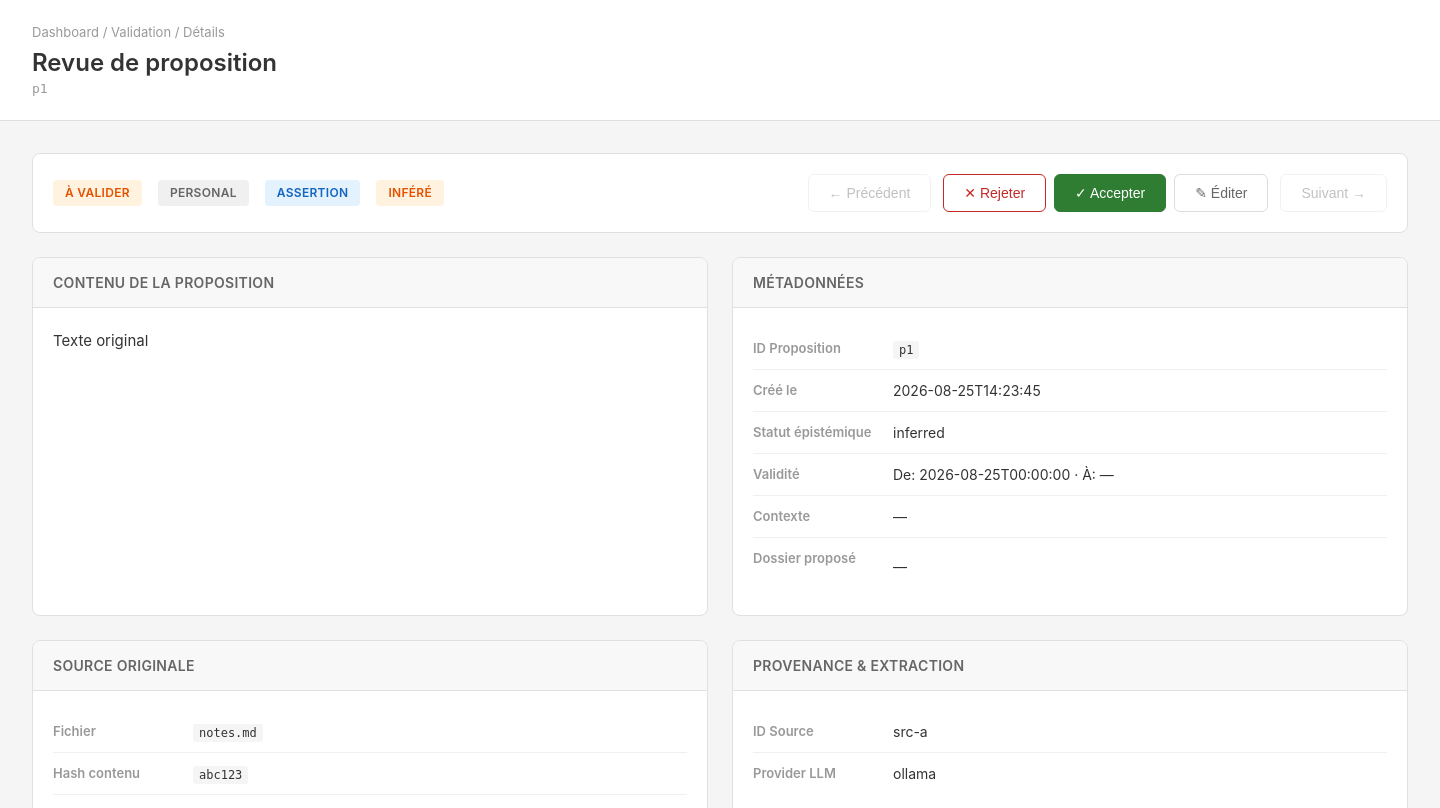
Scenario: ProposalDetail › TASK-013 AC12b: a failed save keeps edit mode open with the draft intact and shows actionError
Expected: the text "Texte original" is shown, [53,331,148,350]
Click the button "✎ Éditer" at (1221, 193), box [1174,174,1268,212]
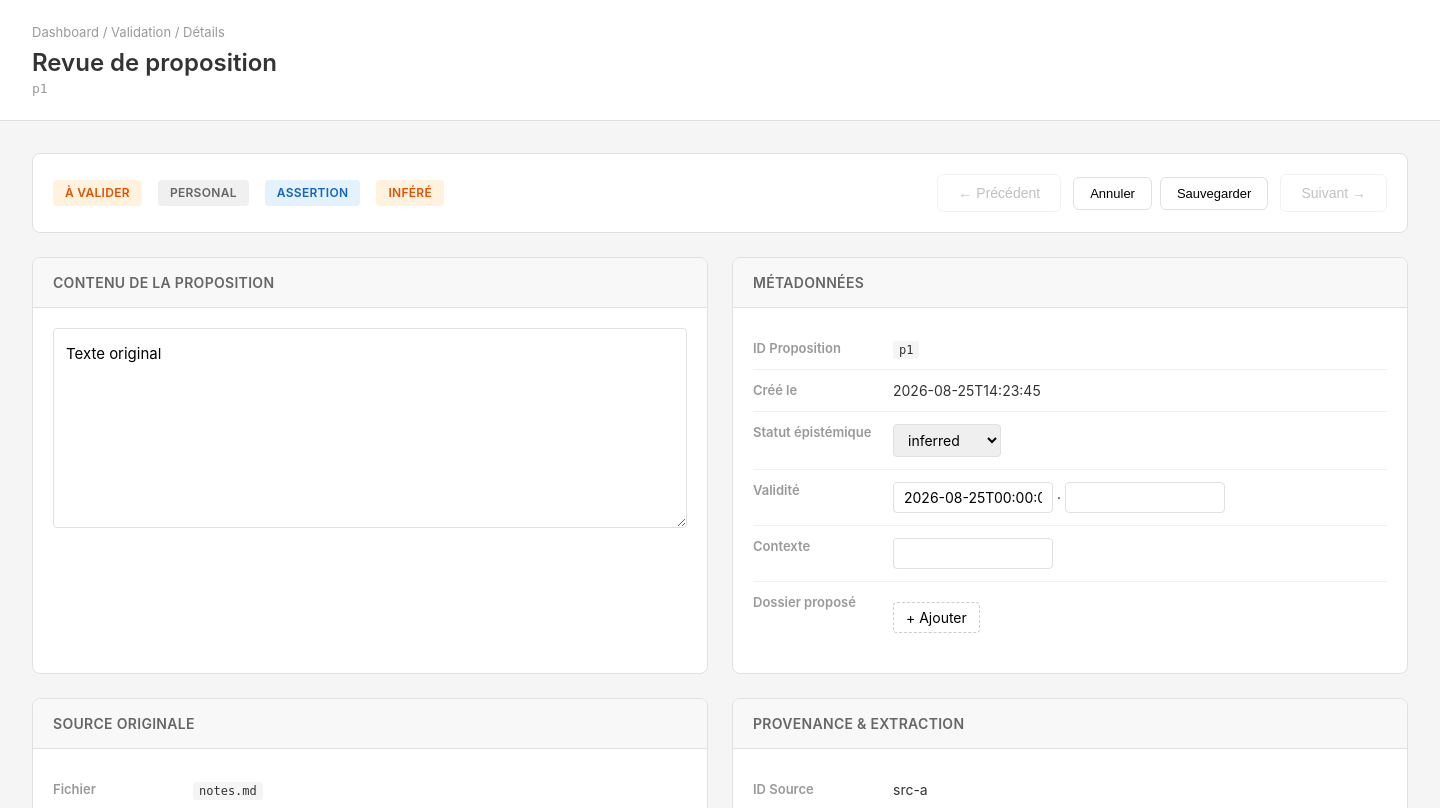
Replace the text in the text box named "Contenu de la proposition" with "Brouillon non sauvegardé" at (370, 428), box [53,328,687,528]
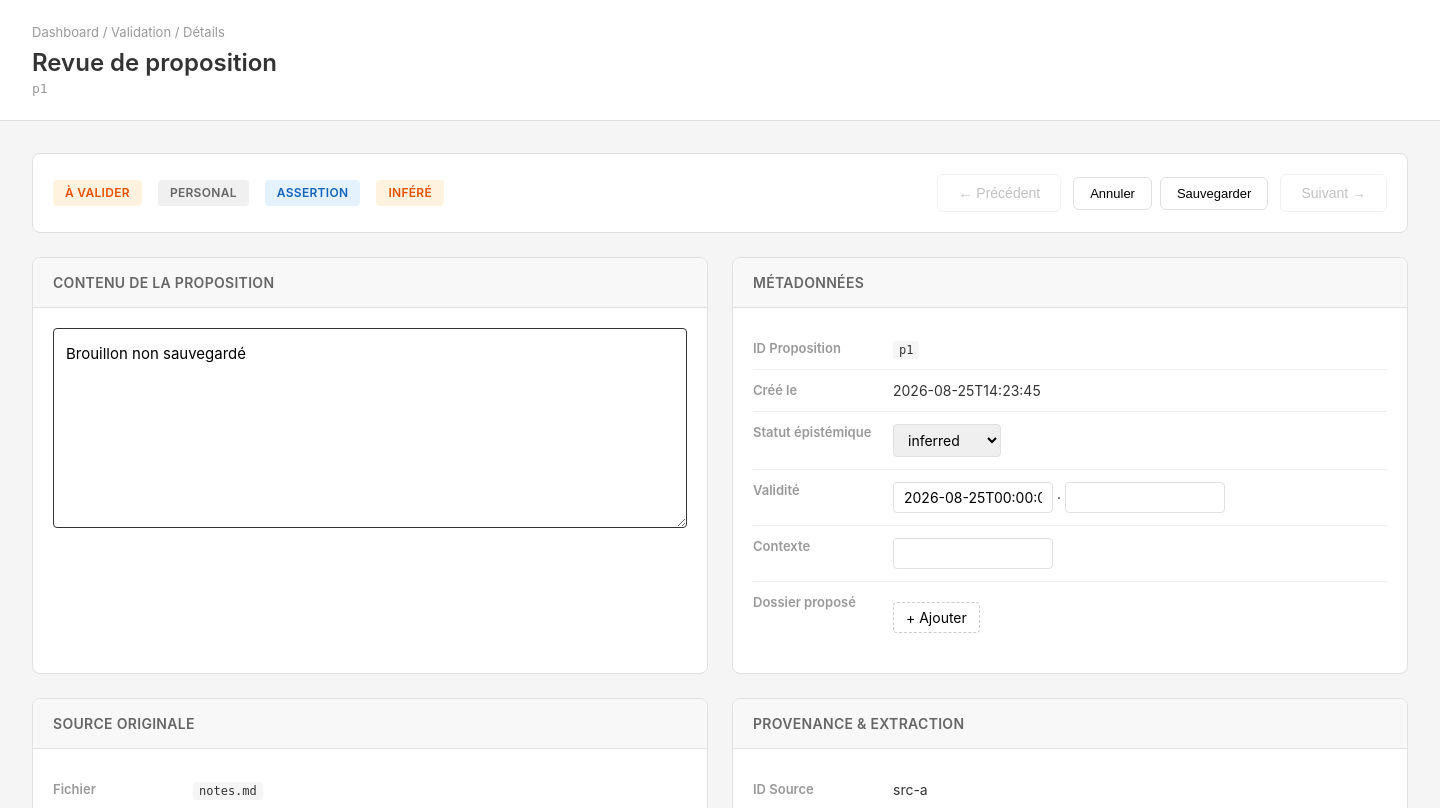
Click the button "Sauvegarder" at (1214, 193), box [1160,176,1268,210]
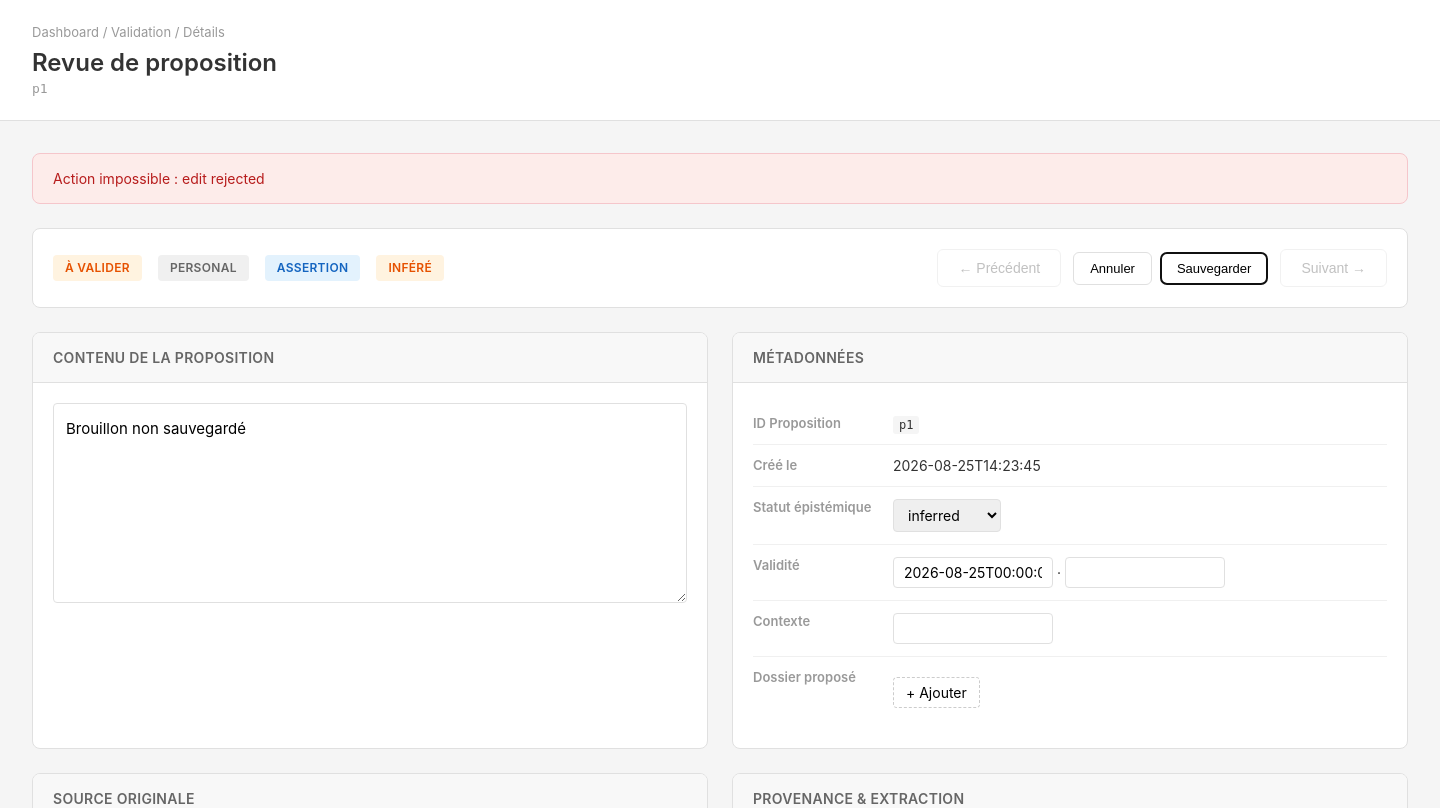
Result: the button "Sauvegarder" is shown at [1160,252,1268,284]
Result: the message shows "edit rejected" at [182,170,265,187]
